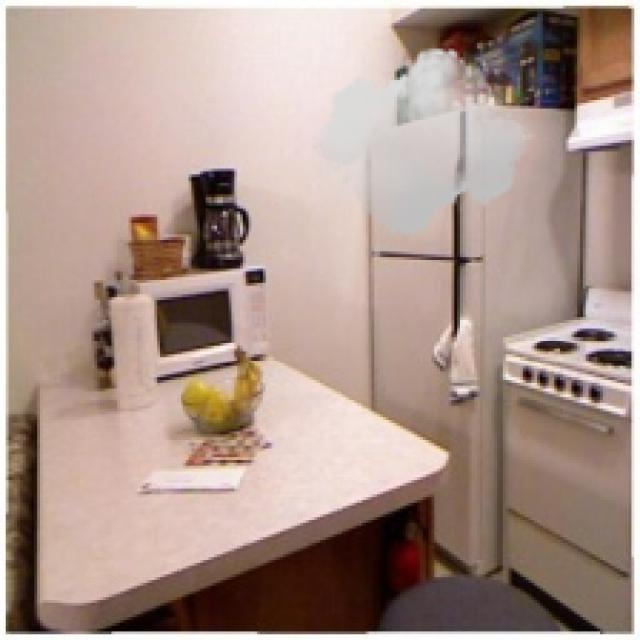Smoke: (312, 40, 534, 243)
